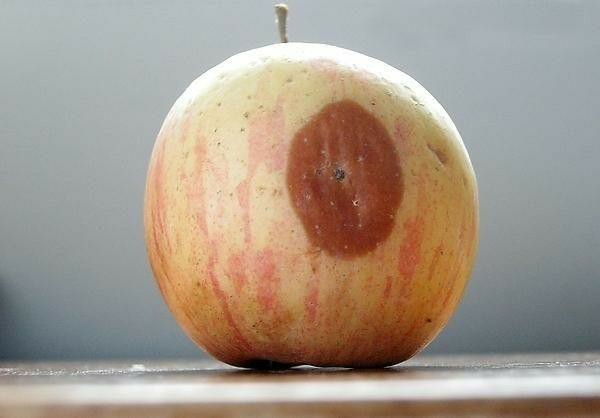rotten_apple: (142, 42, 480, 369)
